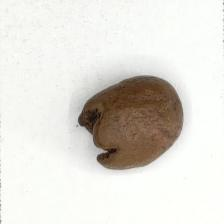NG: (76, 99, 126, 169)
